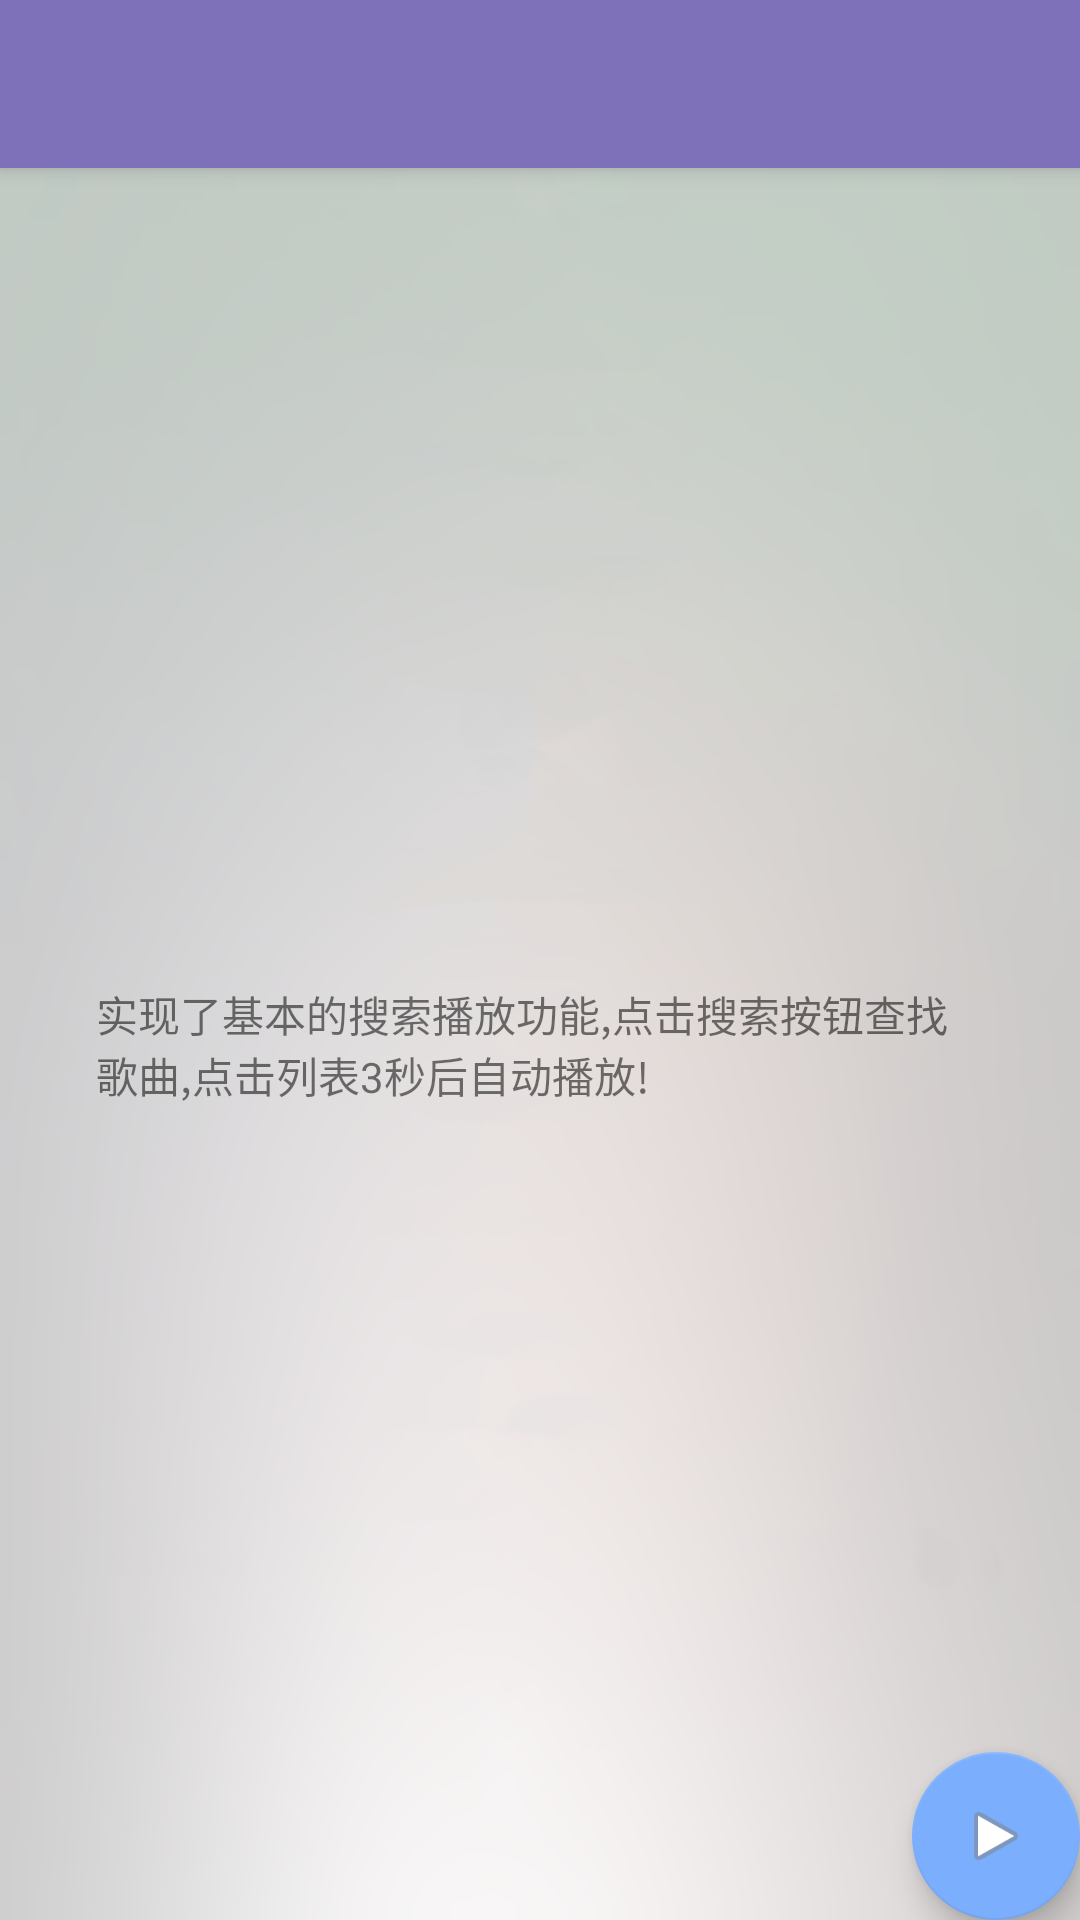

Icons on this 1080*1920 Android screen, each with the point to tap as (x=x, y=y):
play: (x=996, y=1836)
